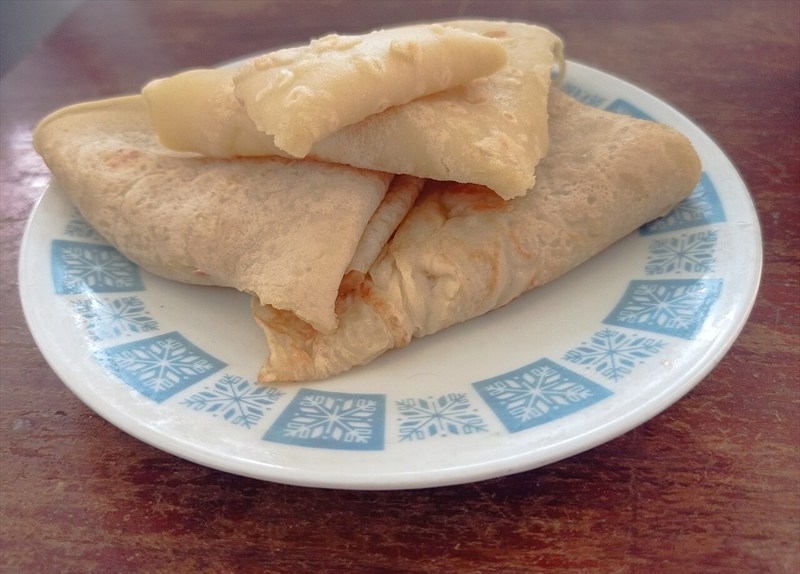Mie Goreng: (27, 23, 753, 503)
